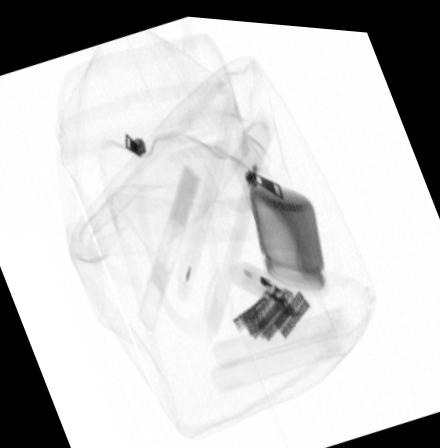Lighter: (227, 256, 302, 313)
